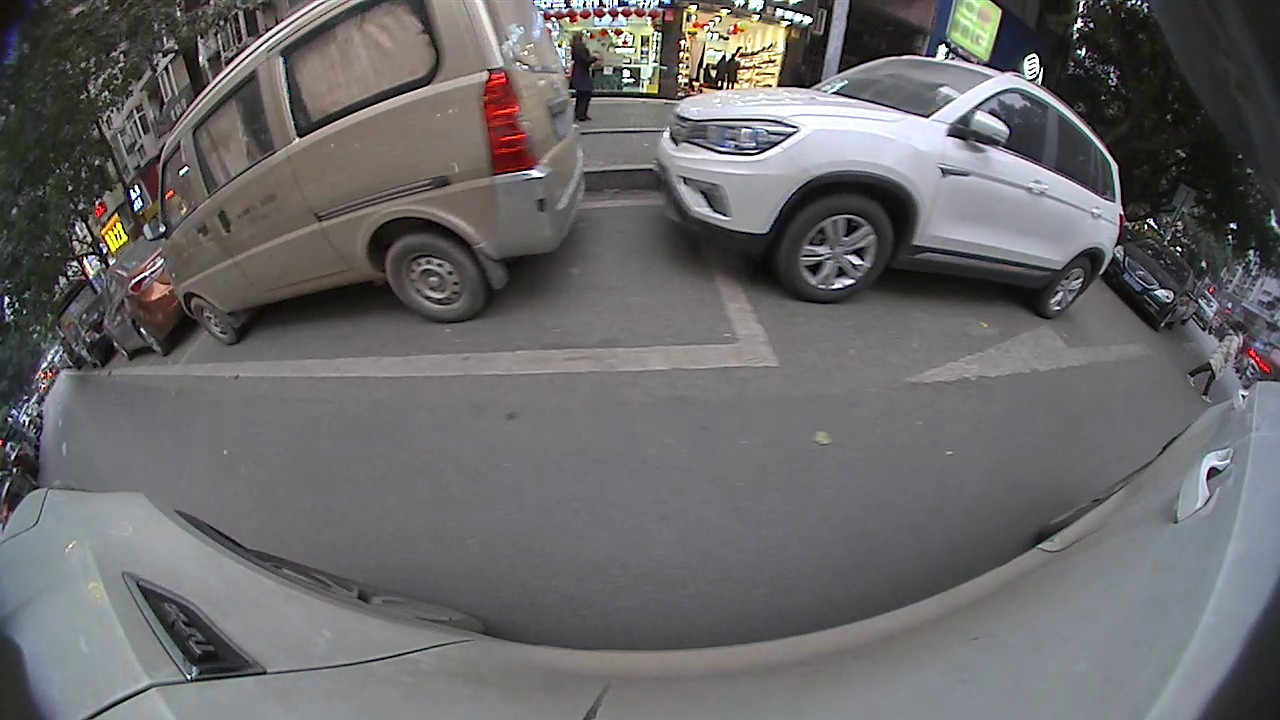car: (788, 103, 1171, 422), (217, 100, 388, 219), (3, 277, 78, 395)
front: (1074, 357, 1140, 416), (258, 174, 286, 218), (702, 110, 725, 151), (41, 344, 68, 371)
rear: (839, 185, 917, 261), (226, 184, 245, 216), (59, 310, 79, 336)
rider: (662, 67, 725, 151), (559, 63, 582, 109)
